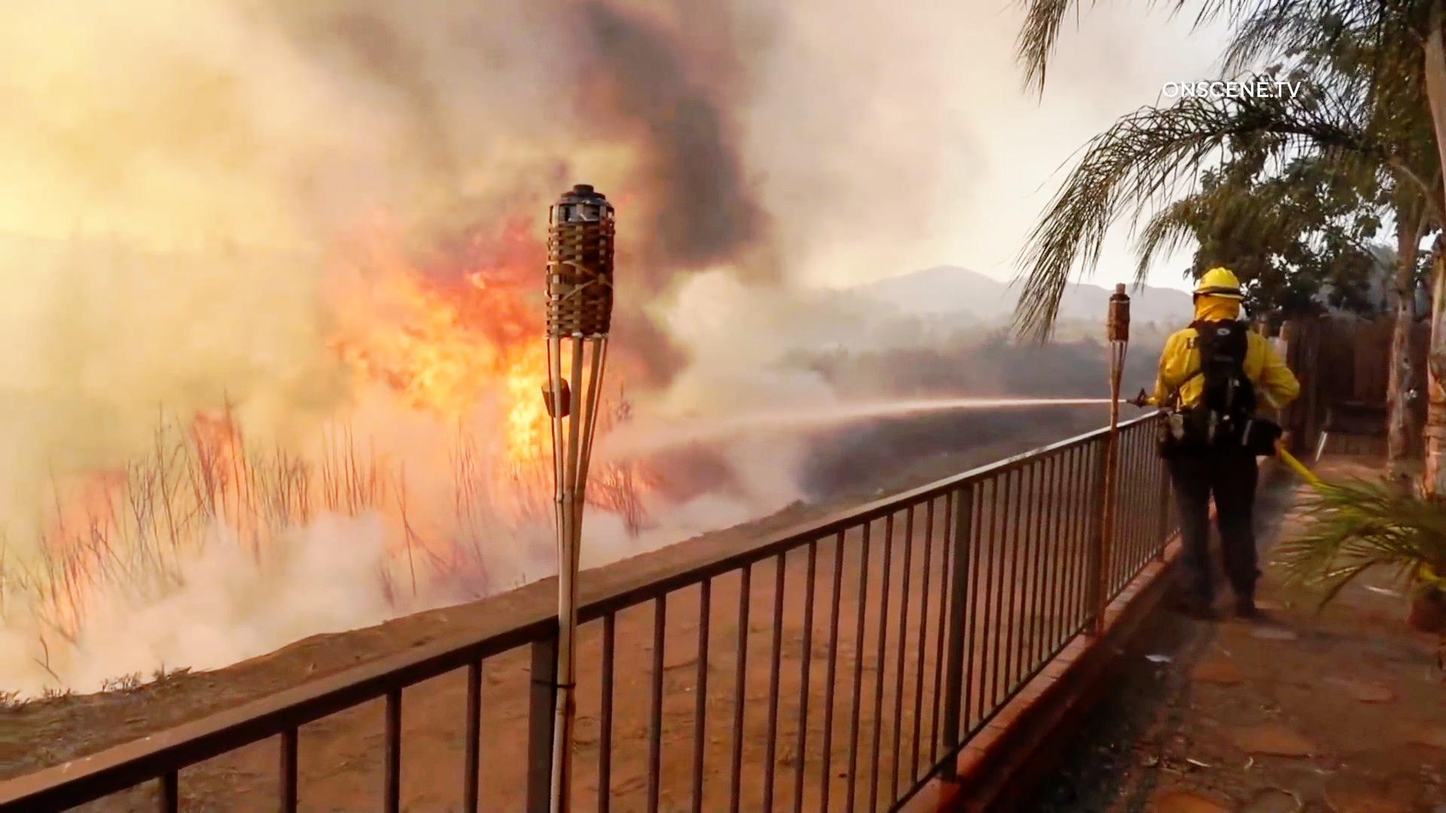fire: (315, 200, 557, 517)
smoke: (0, 10, 970, 191), (577, 0, 760, 183)
